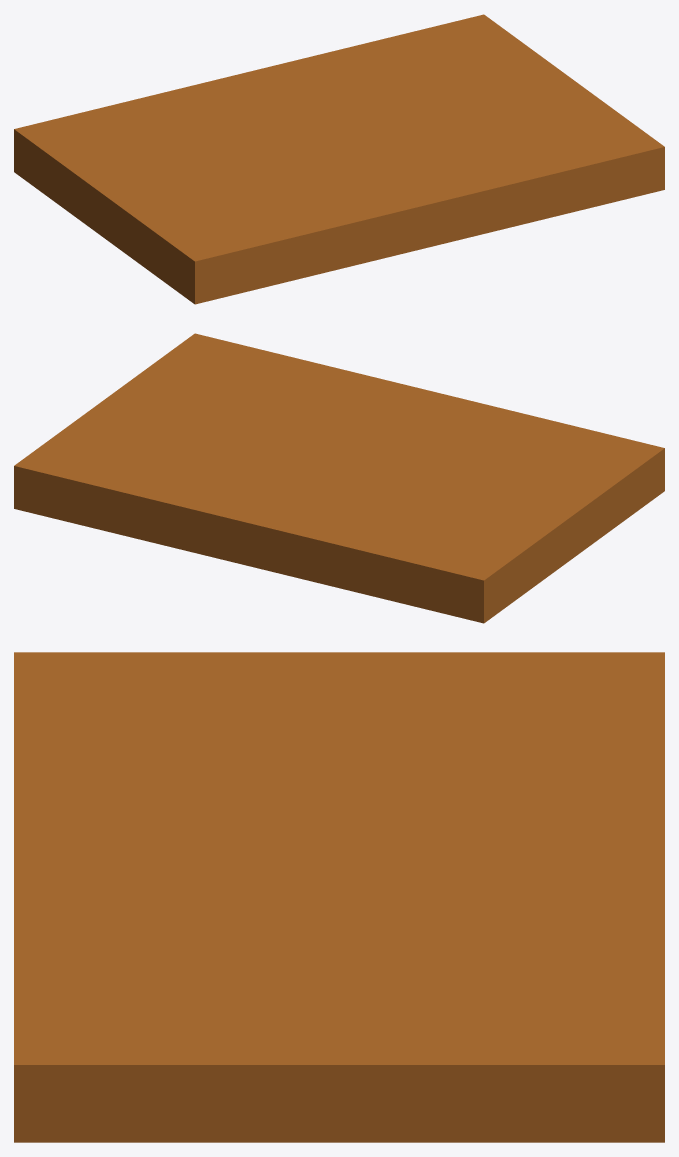
Rendered from TablaAtunes.fbx.
3 renders of one model, top to bottom at view 1: azimuth 30°, elevation 25°; view 2: azimuth 150°, elevation 25°; view 3: azimuth 270°, elevation 25°, orthographic. The views are drawn at different scales.
Parts seen in each view (by area): view 1: TablaAtunes; view 2: TablaAtunes; view 3: TablaAtunes.
Part boxes in pixels (left/top/right/bottom): TablaAtunes: left=14, top=14, right=664, bottom=304; TablaAtunes: left=14, top=333, right=664, bottom=623; TablaAtunes: left=14, top=652, right=664, bottom=1142.
Size of the model in its own units: 68.14 by 5.96 by 45.43.
